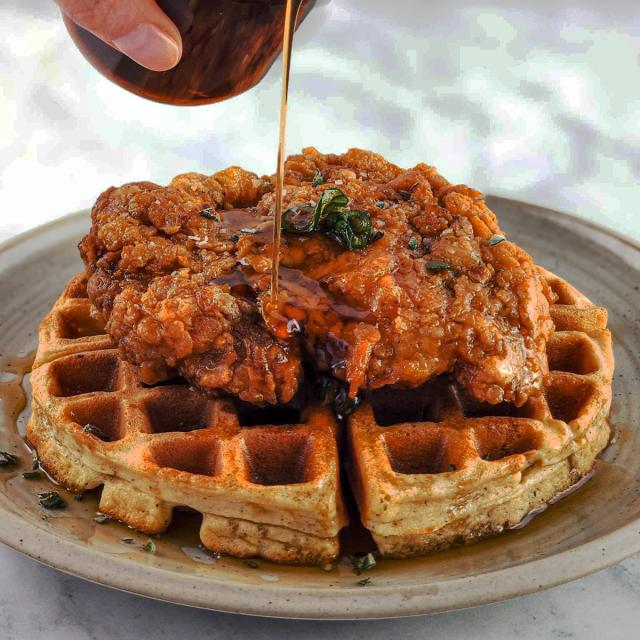Kung Pao Chicken: (278, 186, 375, 253)
chicken waffle: (23, 147, 616, 566)
